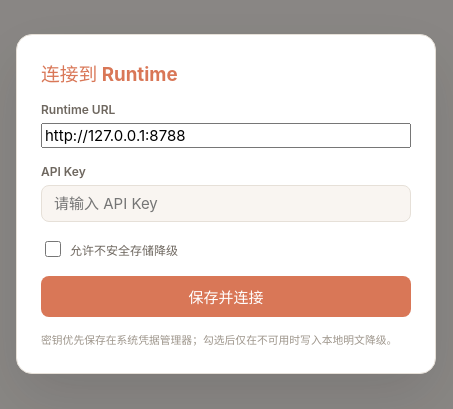
Test: ConnectionSetup › requires API key in setup mode
Type "http://192.168.1.100:8788" into the field labelled "Runtime URL" at (226, 136), box x1=41 y1=123 x2=411 y2=148
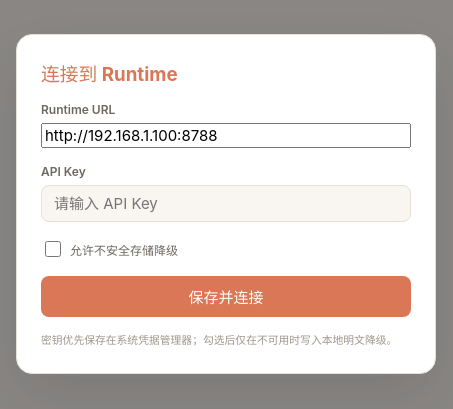
Click the button "保存并连接" at (226, 297), box x1=41 y1=276 x2=411 y2=317
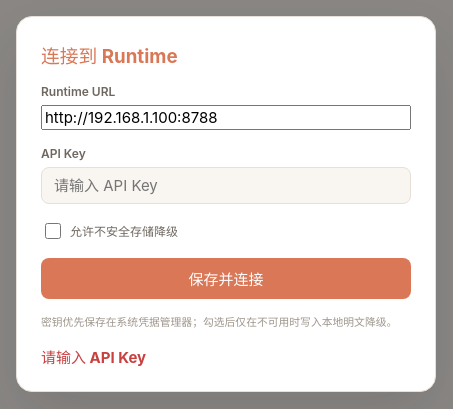
Expected: the text "请输入 API Key" is shown, x1=41 y1=348 x2=146 y2=367
